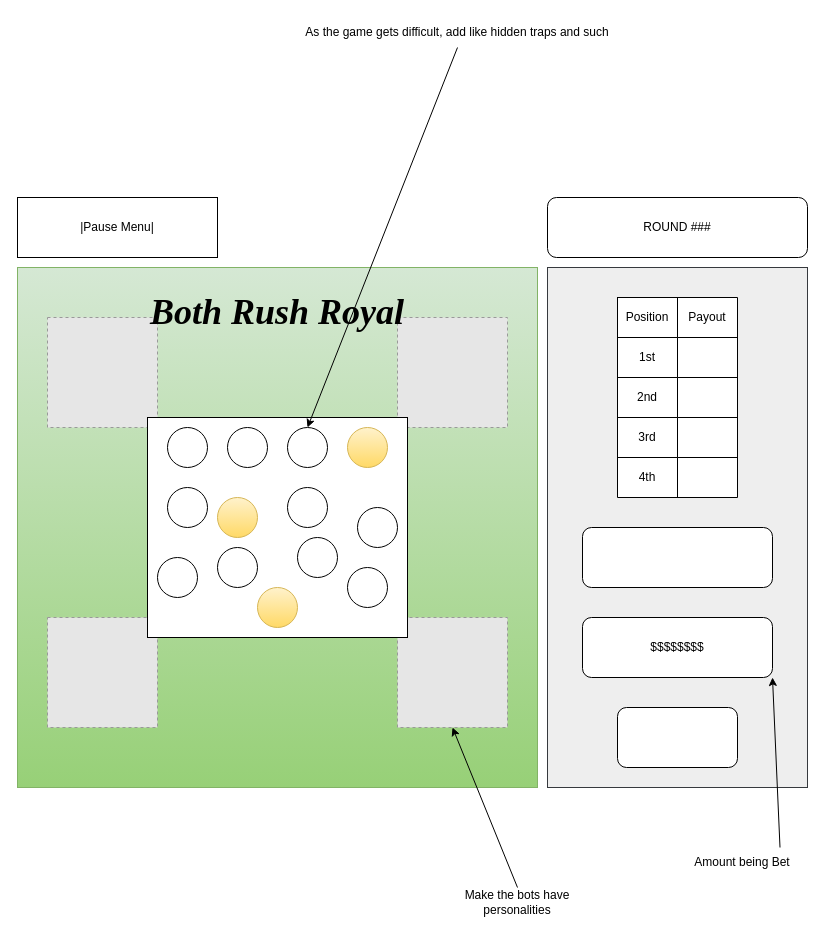
Some shapes in this 835 by 934 pixel diagram are drawn without their labels. Grey dashed boxes stand in for pictures. Here are the shapes that lost their labels. From the top down, the centre of each, then its label:
At pixel 677 557: "Current user $$ Amount".
At pixel 677 737: "BET_Button".
